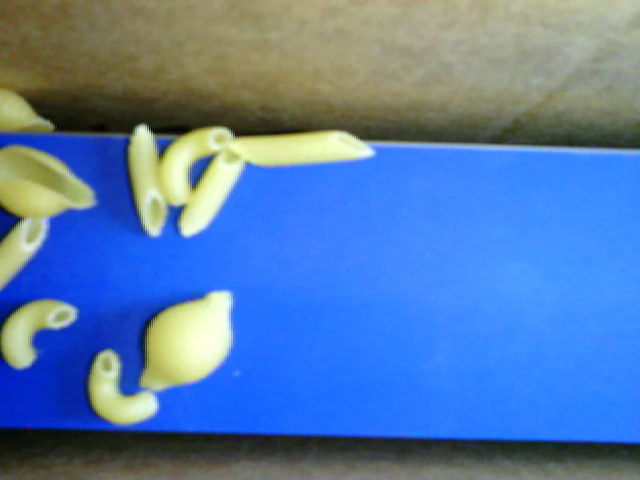elbow: (160, 124, 234, 209), (85, 348, 160, 426), (1, 298, 80, 370)
penne: (176, 143, 246, 238), (230, 131, 375, 168), (125, 123, 167, 240), (1, 206, 47, 289)
shell: (135, 289, 234, 391), (1, 140, 96, 227), (1, 87, 58, 132)
